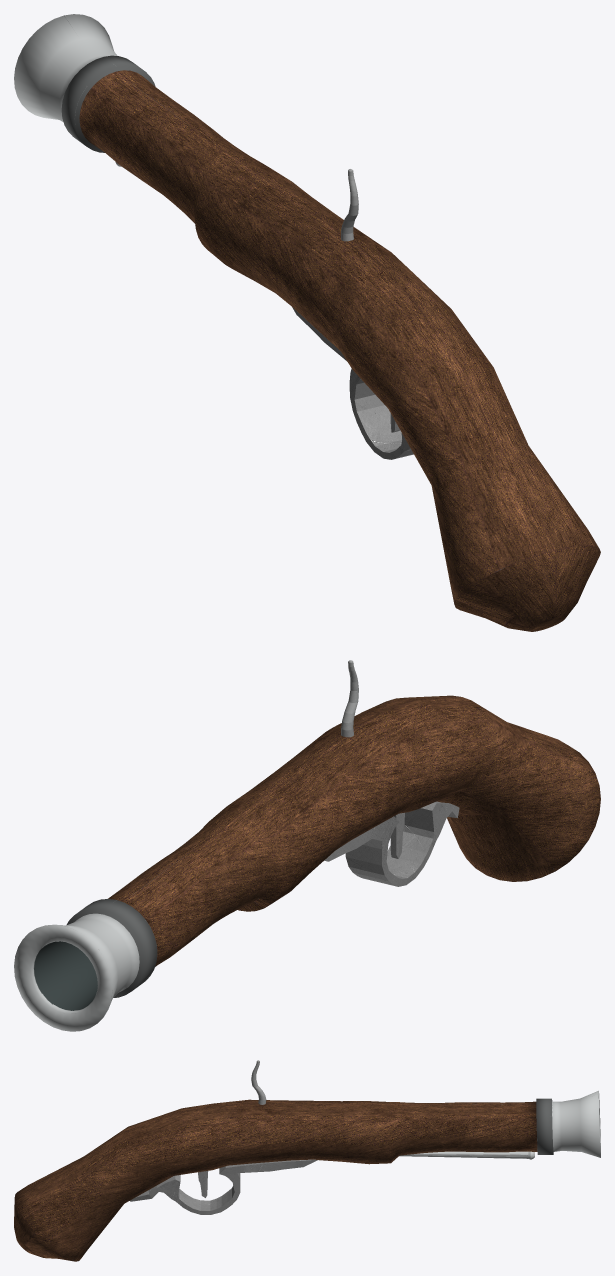
Rendered from trabuco 1.fbx.
The picture shows the model from 3 angles, top to bottom: view 1: azimuth 30°, elevation 25°; view 2: azimuth 150°, elevation 25°; view 3: azimuth 270°, elevation 25°; orthographic projection. The views are drawn at different scales.
Parts seen in each view (by area): view 1: Plane; view 2: Plane; view 3: Plane.
Part boxes in pixels (x1,y1,x2,y2): Plane: [14, 14, 600, 631]; Plane: [14, 660, 600, 1031]; Plane: [14, 1060, 600, 1261].
Size of the model in its own units: 305 by 709 by 1929.
